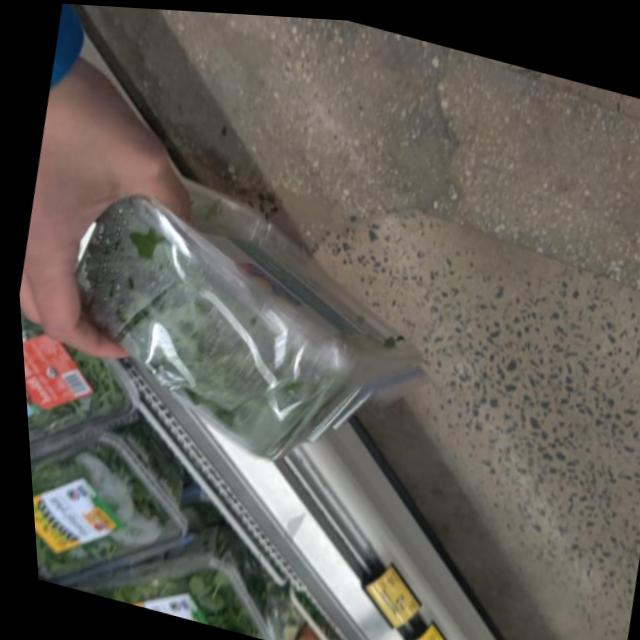Salad: (6, 122, 465, 497), (21, 393, 203, 616)
